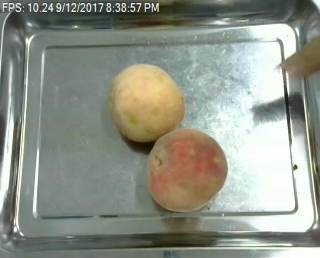Peach: (146, 127, 228, 212), (108, 63, 184, 143)
